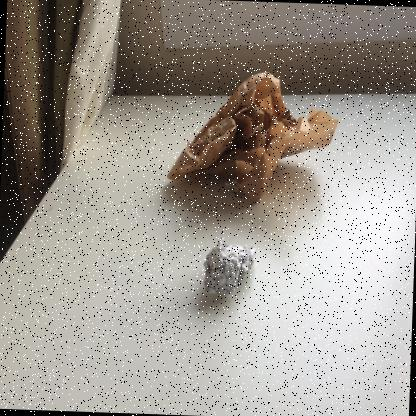Aluminium foil: (203, 236, 256, 295), (222, 180, 249, 199)
Paper bag: (167, 72, 338, 202)
